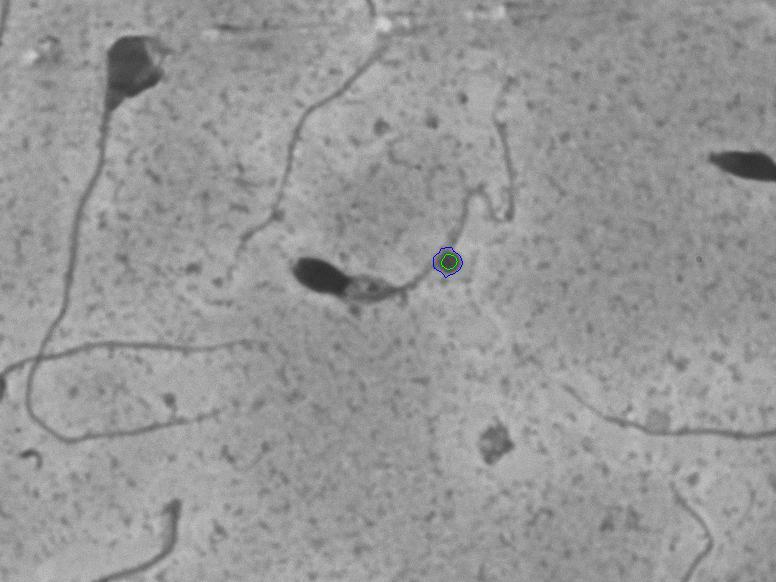Abnormal: (17, 26, 207, 336), (294, 101, 527, 341)
